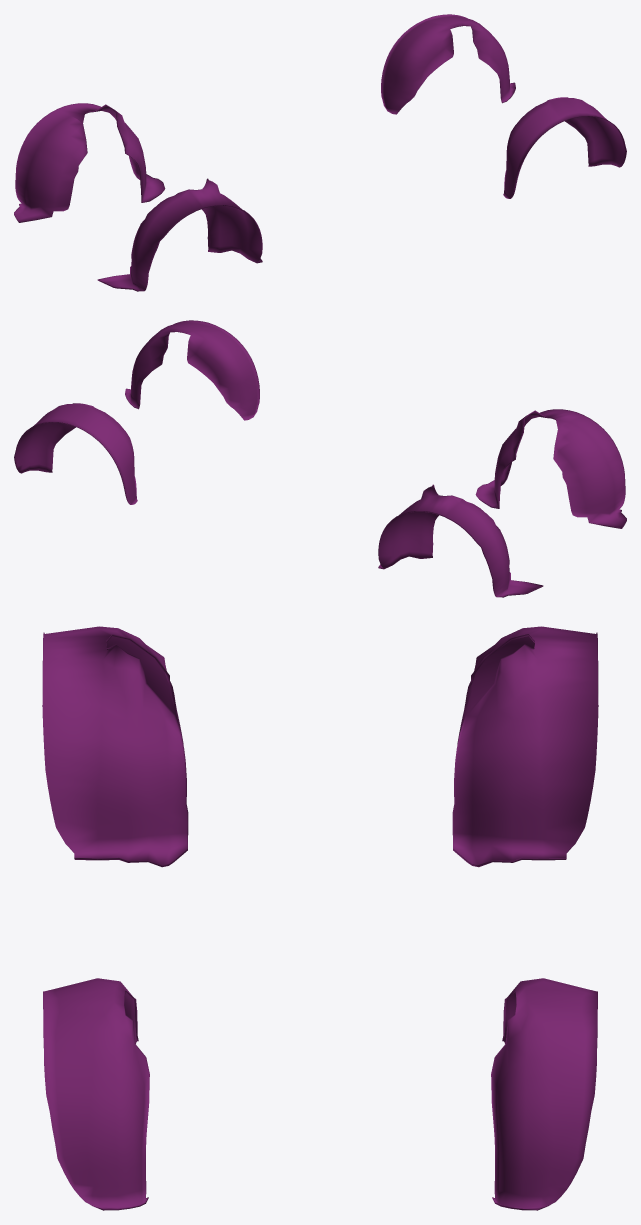
File: SM_Car_Tai.FBX
3 renders of one model, top to bottom at view 1: azimuth 30°, elevation 25°; view 2: azimuth 150°, elevation 25°; view 3: azimuth 270°, elevation 25°, orthographic. The views are drawn at different scales.
Visible parts, largest first — view 1: dipan18; view 2: dipan18; view 3: dipan18.
Boxes of the visible parts, bbox=[...] form: dipan18: bbox=[14, 14, 626, 291]; dipan18: bbox=[14, 320, 626, 597]; dipan18: bbox=[42, 626, 598, 1210].
Bounding box in the file's own units: 401 × 67.78 × 189.
